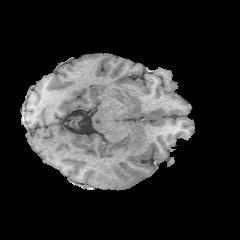glioma: (81, 162, 142, 189)
